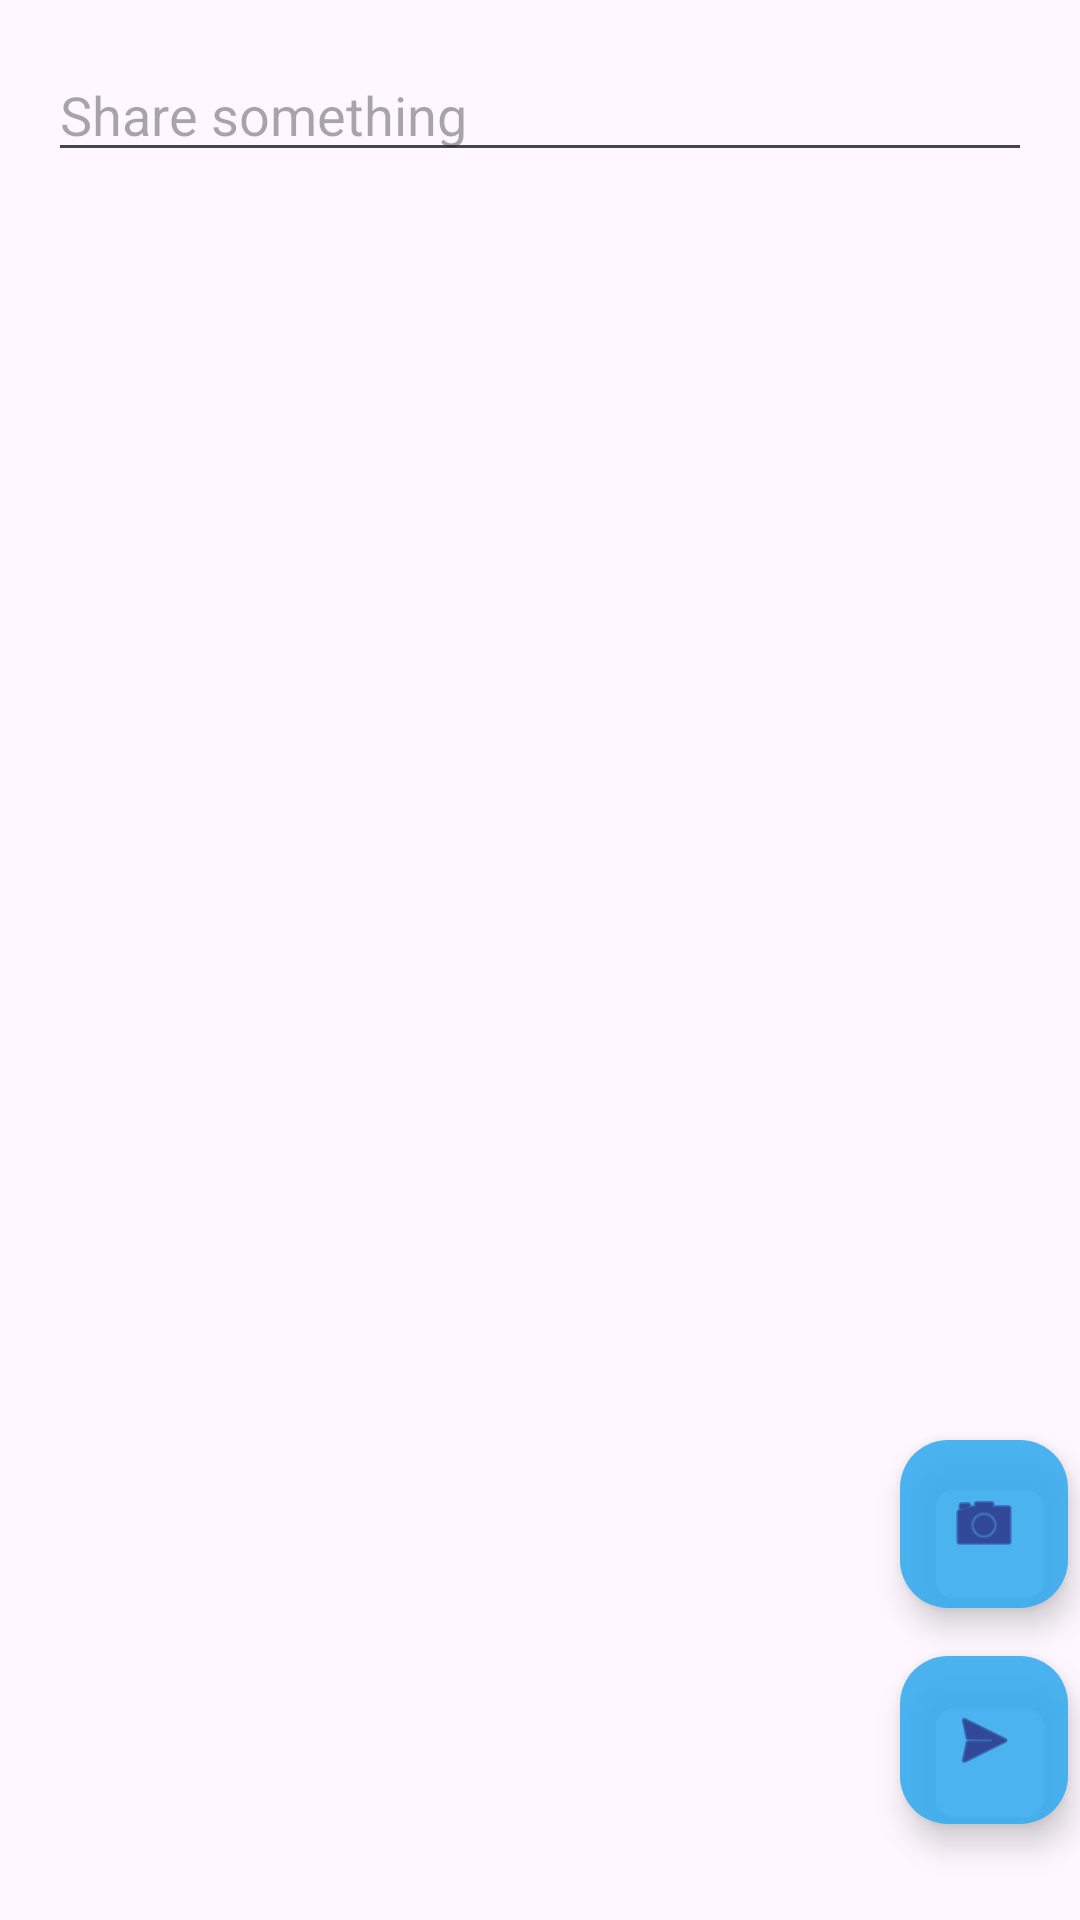

Locate icon controls on the screen. Image size 1080*1920, boxes as BBox(x1, y1, x2, y2).
camera: BBox(900, 1440, 1068, 1608)
send: BBox(900, 1656, 1068, 1824)
